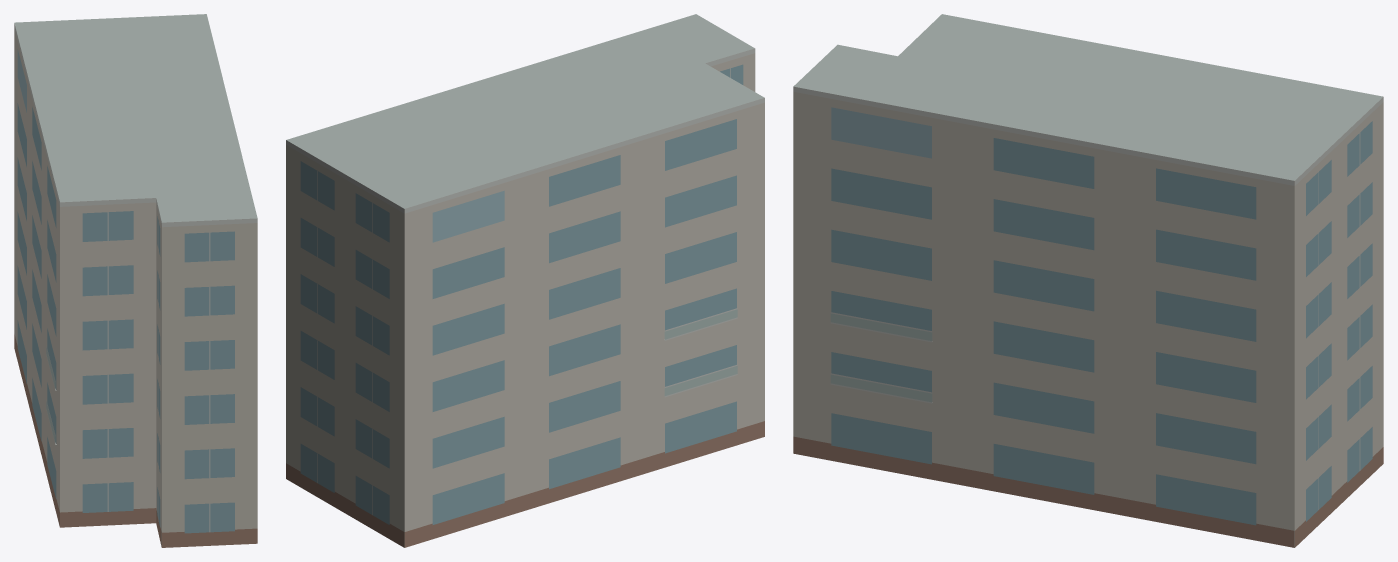
The model's file is survey-upis-33019154.glb.
3 views of the same model, side by side, from view 1: azimuth 30°, elevation 25°; view 2: azimuth 150°, elevation 25°; view 3: azimuth 270°, elevation 25° (orthographic). The views are drawn at different scales.
Parts seen in each view (by area): view 1: survey-upis-33019154.tmp; view 2: survey-upis-33019154.tmp; view 3: survey-upis-33019154.tmp.
Boxes of the visible parts, x1,y1,x2,y2 form: survey-upis-33019154.tmp: (14,14,257,547); survey-upis-33019154.tmp: (286,14,764,547); survey-upis-33019154.tmp: (793,14,1383,547).
Bounding box in the file's own units: 16.98 × 17.4 × 25.38.
